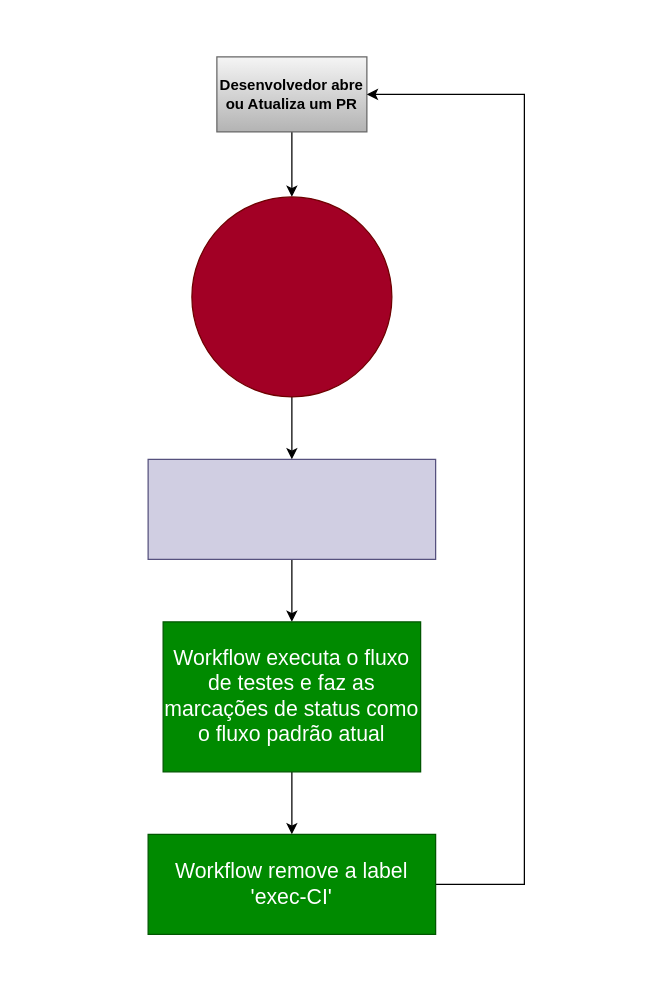
The diagram is 655 pixels wide and 993 high, and some of its shapes have lost their labels. The shapes that lost their labels are listed below. From the top down, each one's centre as x and y in pixels, then its label:
At [291,296]: "PR Bloqueado até o Brakeman passar".
At [291,508]: "Desenvolvedor adiciona a label 'exec-CI'".
